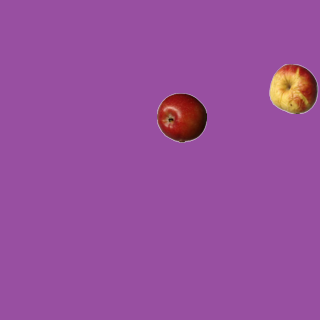Apple Braeburn: (156, 92, 206, 142)
Apple Red Yellow 1: (268, 63, 318, 113)
